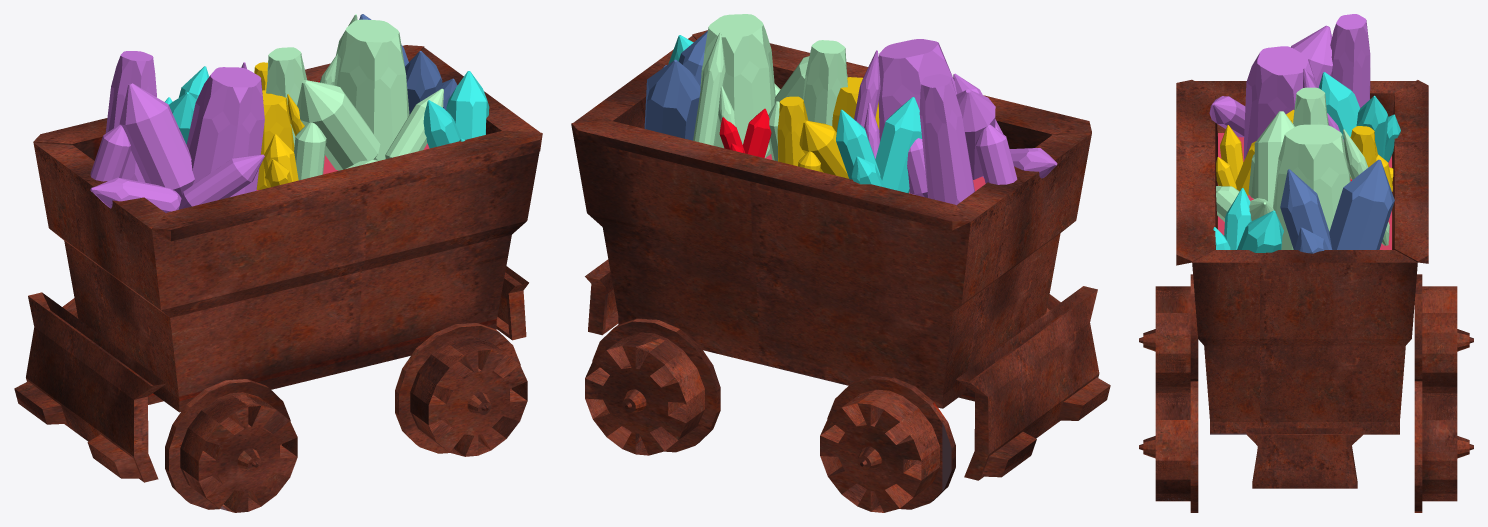
File: KartW_Crystals.fbx
The picture shows the model from 3 angles, left to right: view 1: azimuth 30°, elevation 25°; view 2: azimuth 150°, elevation 25°; view 3: azimuth 270°, elevation 25°; orthographic projection. The views are drawn at different scales.
Visible parts, largest first — view 1: MiningKart, Cube; view 2: MiningKart, Cube, SmallCrystalCluster.005; view 3: MiningKart, Cube.
Part boxes in pixels (x1,y1,x2,y2): MiningKart: (14,45,542,512); Cube: (90,14,489,212); MiningKart: (571,30,1110,512); Cube: (644,14,1057,205); SmallCrystalCluster.005: (719,108,771,157); MiningKart: (1139,79,1473,512); Cube: (1209,14,1400,253).
Bounding box in the file's own units: 423 × 367 × 297.
